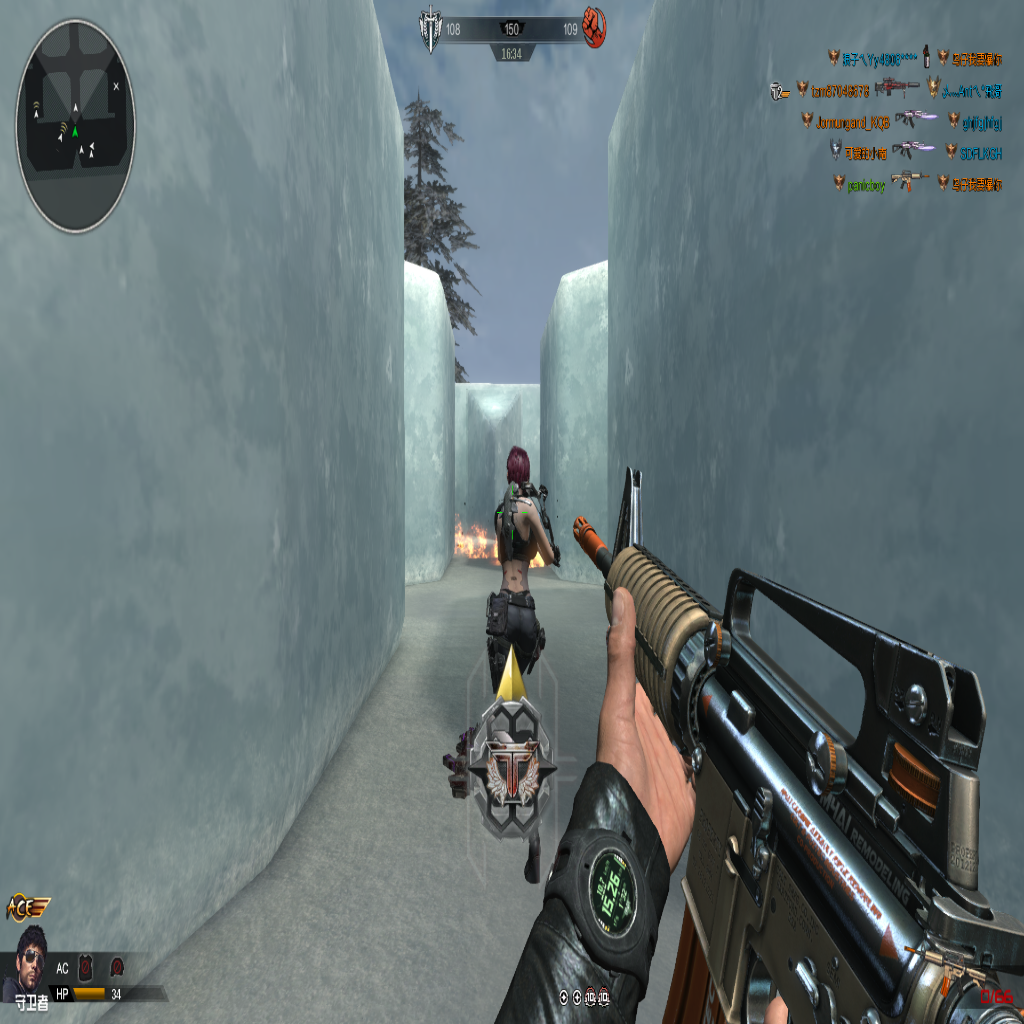ct: (493, 446, 557, 607)
